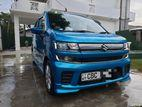car: (31, 9, 132, 96)
